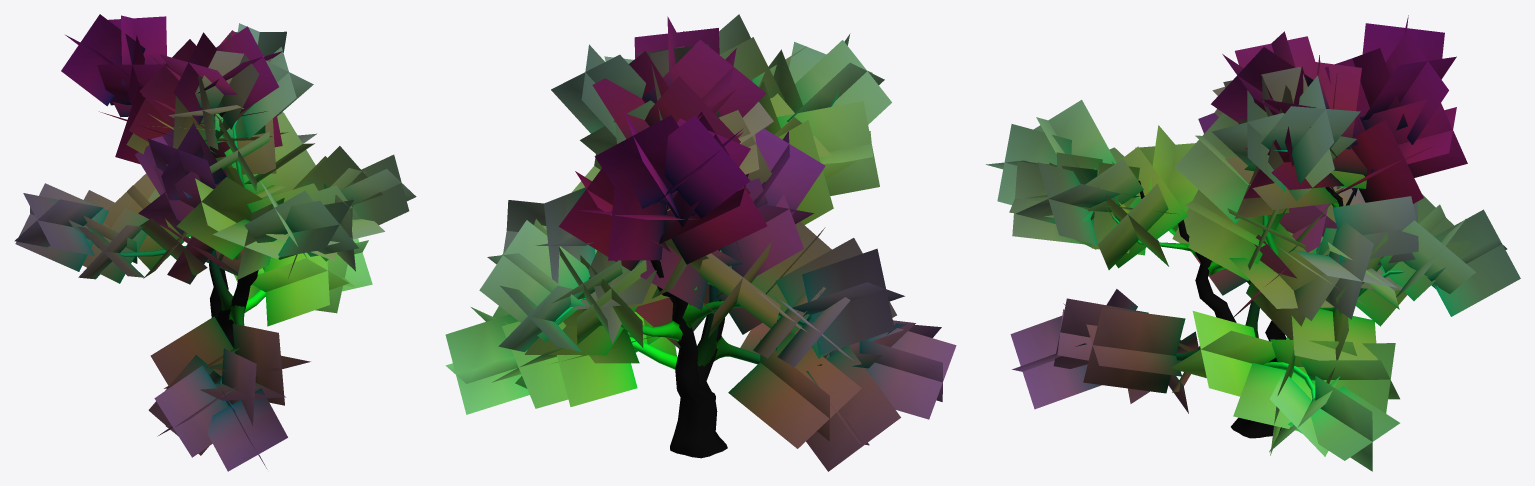
Rendered from URP_P11_Tree_9_LOD_1.fbx.
3 views of the same model, side by side, from view 1: azimuth 30°, elevation 25°; view 2: azimuth 150°, elevation 25°; view 3: azimuth 270°, elevation 25° (orthographic). The views are drawn at different scales.
Visible parts, largest first — view 1: Tree_9_LOD_1; view 2: Tree_9_LOD_1; view 3: Tree_9_LOD_1.
Part boxes in pixels (<box>): Tree_9_LOD_1: <box>14,14,416,471</box>; Tree_9_LOD_1: <box>445,14,956,471</box>; Tree_9_LOD_1: <box>986,15,1520,471</box>.
Bounding box in the file's own units: 599 × 598 × 688.
